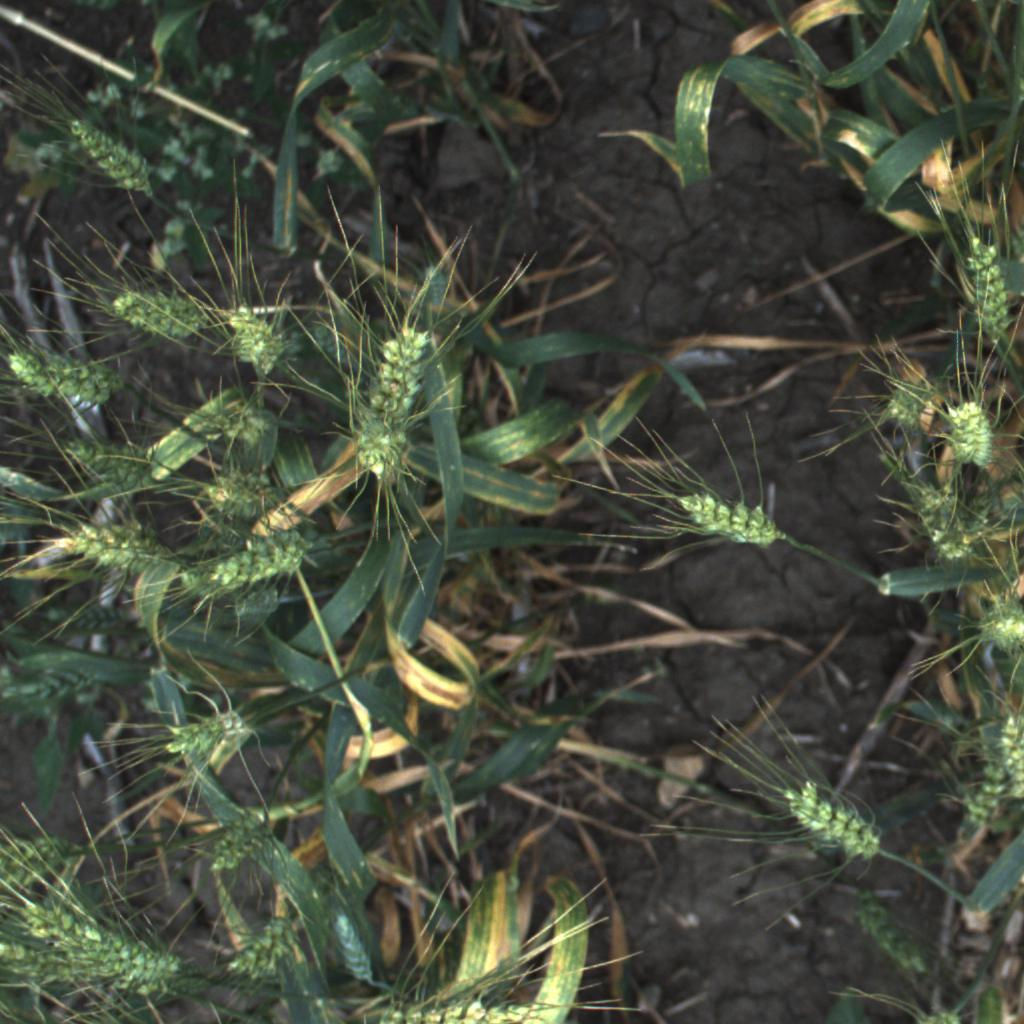0-0: (9, 891, 203, 992), (754, 768, 896, 871), (0, 935, 180, 1012), (670, 478, 793, 564), (3, 341, 128, 423), (44, 503, 166, 583), (872, 346, 965, 450), (100, 271, 215, 350), (55, 107, 152, 197), (194, 526, 319, 595), (953, 229, 1022, 348), (155, 695, 258, 774), (901, 470, 984, 566), (359, 987, 561, 1024), (50, 431, 158, 496), (0, 817, 85, 897), (949, 737, 1006, 856), (198, 803, 289, 877), (224, 910, 302, 987), (940, 384, 1005, 470), (323, 896, 383, 988), (194, 463, 289, 521), (220, 292, 282, 379), (355, 393, 413, 485), (191, 391, 281, 449), (863, 902, 931, 972), (989, 696, 1024, 810), (964, 598, 1024, 663), (378, 331, 423, 416)
